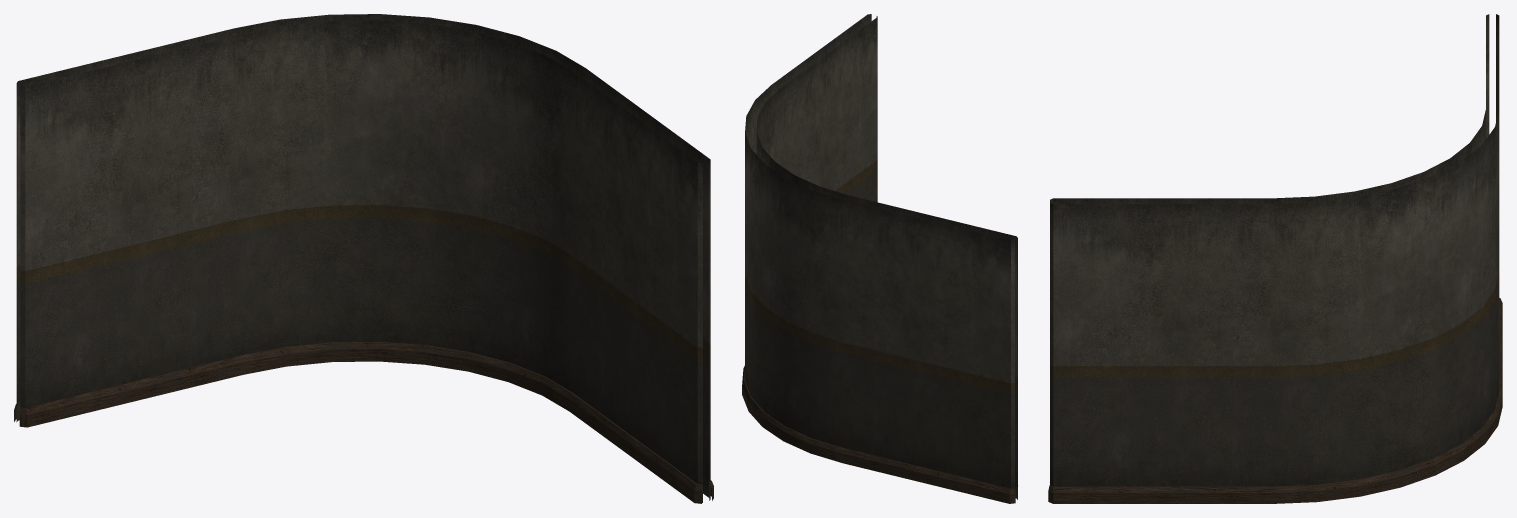
Rendered from wall_1_rounded_corner_1.obj.
3 renders of one model, left to right at view 1: azimuth 30°, elevation 25°; view 2: azimuth 150°, elevation 25°; view 3: azimuth 270°, elevation 25°, orthographic. The views are drawn at different scales.
Visible parts, largest first — view 1: wall_1_rounded_corner_1; view 2: wall_1_rounded_corner_1; view 3: wall_1_rounded_corner_1.
Part boxes in pixels (bbox=[...]): wall_1_rounded_corner_1: bbox=[14, 14, 713, 503]; wall_1_rounded_corner_1: bbox=[742, 14, 1017, 503]; wall_1_rounded_corner_1: bbox=[1048, 14, 1502, 503].
Size of the model in its own units: 4.13 by 3 by 4.13.
